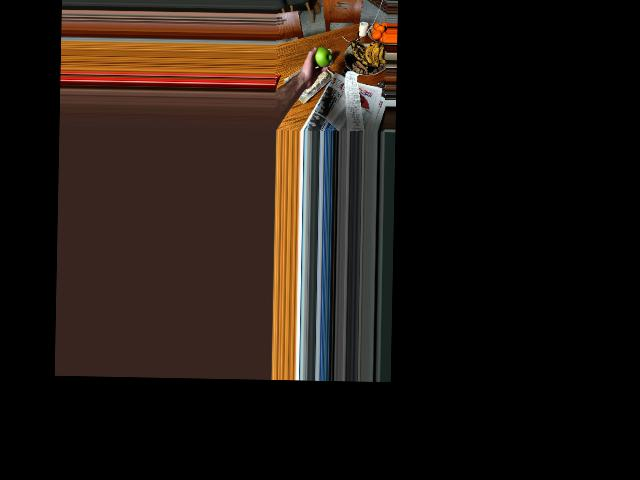apple: (310, 45, 330, 69)
